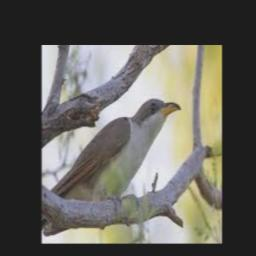Cuckoo: (49, 98, 181, 202)
